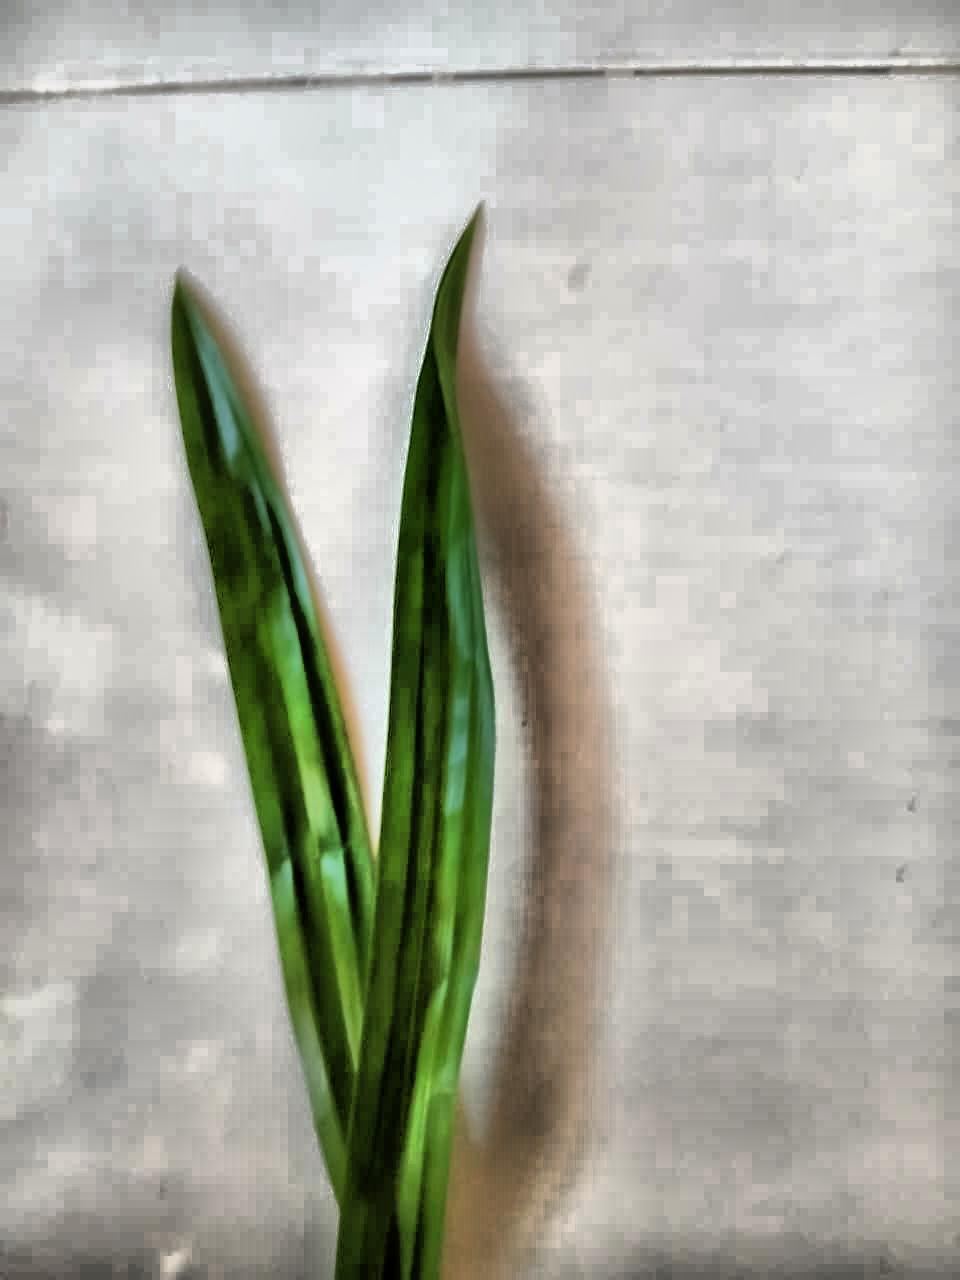daun pandan: (171, 215, 494, 1279)
